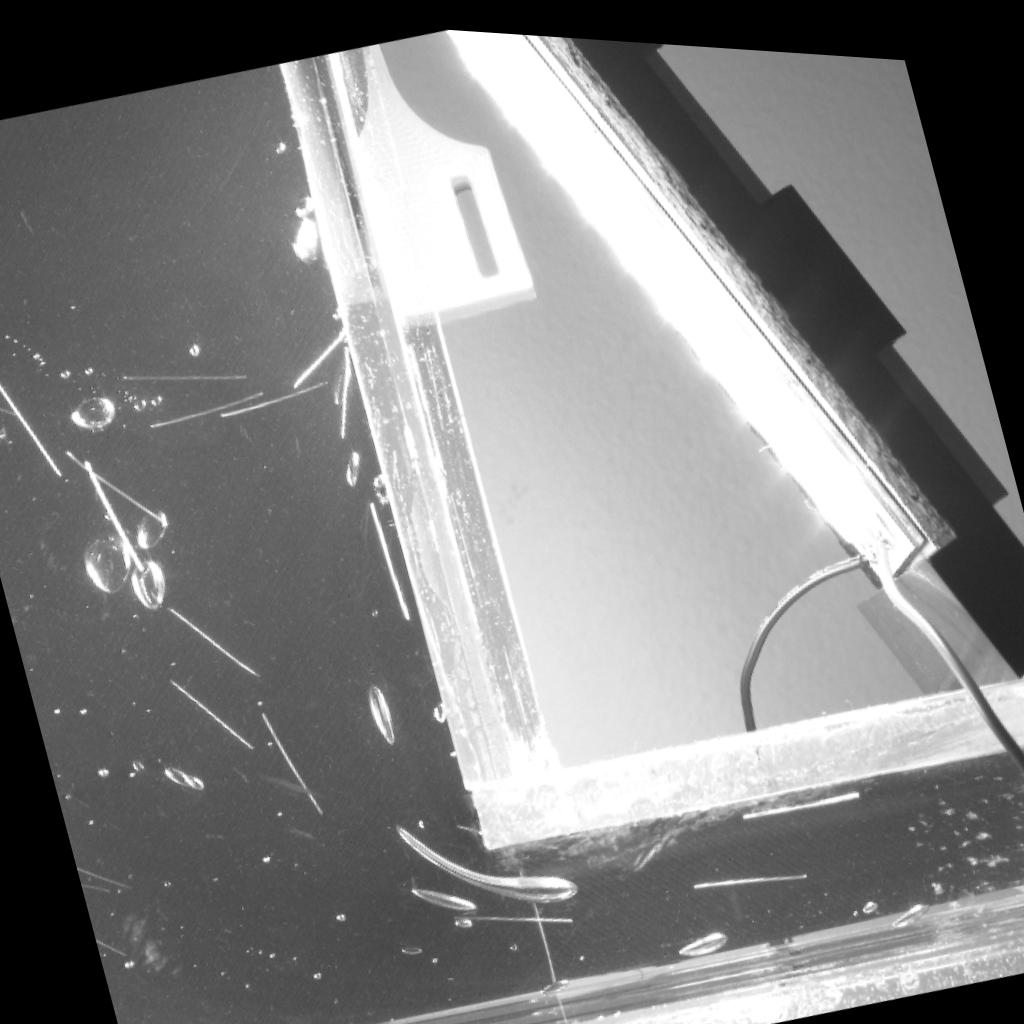Fiber: (76, 455, 144, 574), (65, 448, 168, 525), (258, 707, 324, 812), (166, 604, 260, 676), (165, 674, 256, 746), (0, 381, 61, 474), (364, 496, 411, 615), (144, 381, 262, 428), (219, 375, 327, 415), (742, 780, 863, 810), (288, 320, 342, 386), (695, 861, 808, 879), (75, 863, 134, 891), (338, 336, 352, 434), (461, 906, 573, 915), (94, 935, 130, 961), (122, 370, 248, 377), (82, 881, 110, 893), (0, 405, 17, 418)
